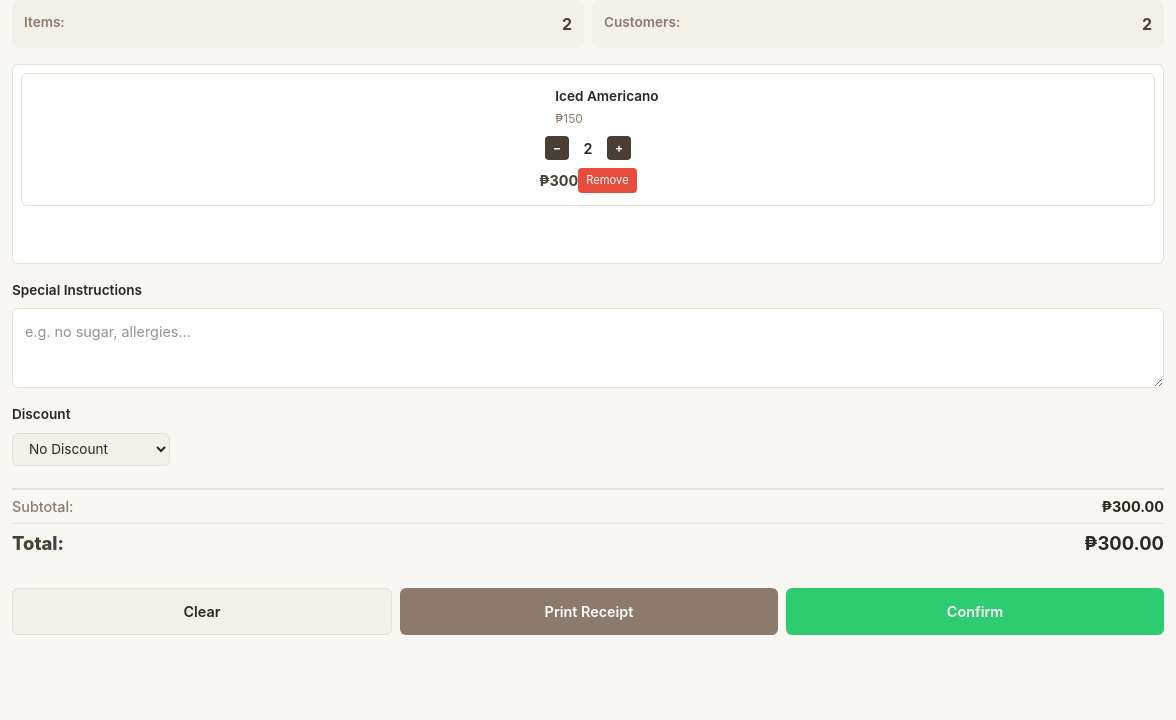
Test: OrderDetails › discount reset when order process ends › should reset discount type and value after Clear is clicked
Select "Fixed Amount (₱)" in the dropdown with test id "discount-type-select" at (91, 449), box [12, 433, 170, 466]
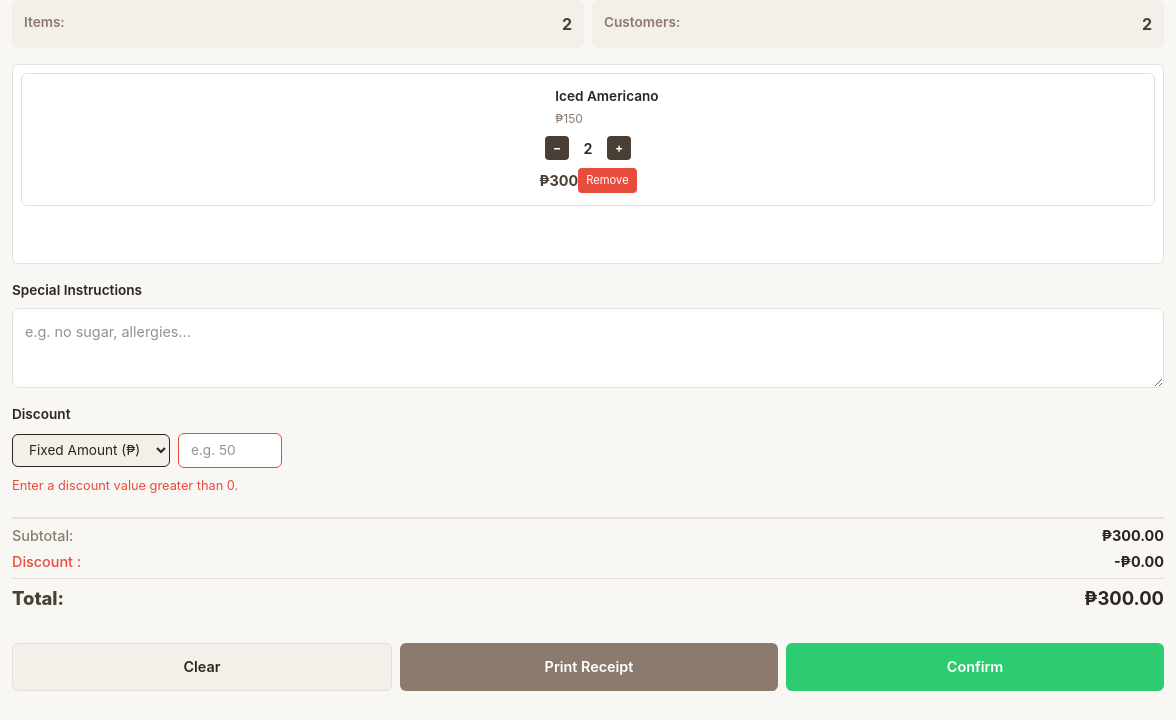
Type "30" into the number field with test id "discount-value-input" at (230, 450), box [178, 433, 282, 468]
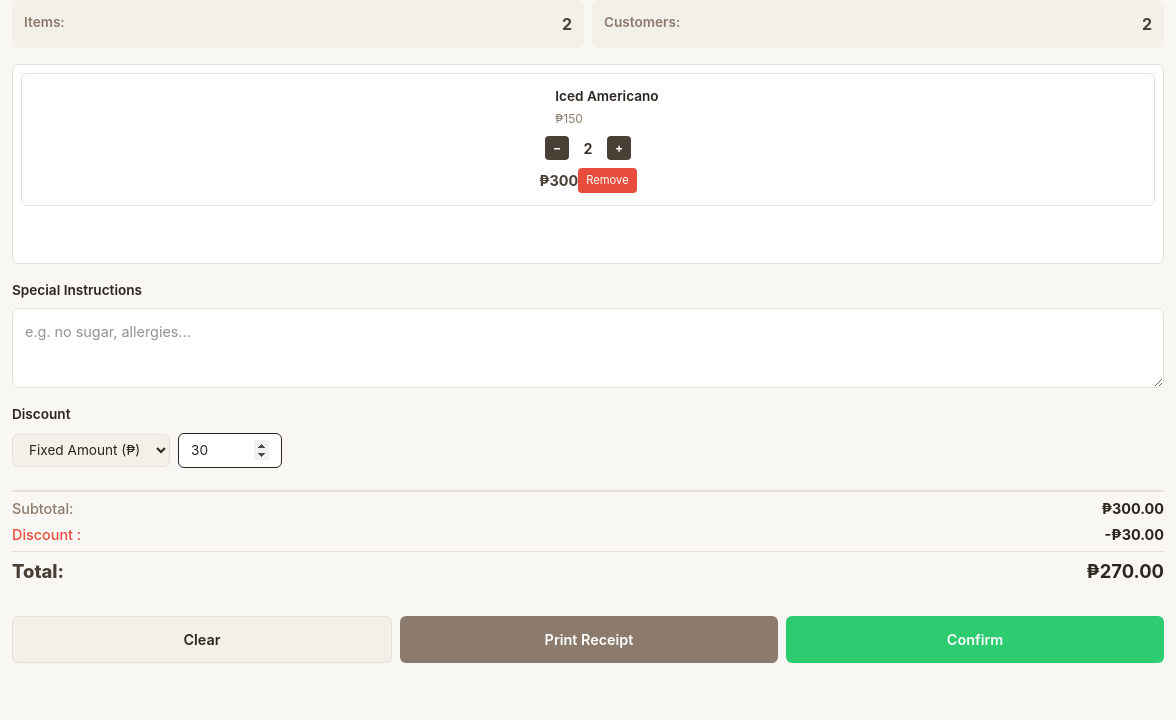
Click the button with test id "clear-cart-btn" at (202, 640), box [12, 616, 392, 663]
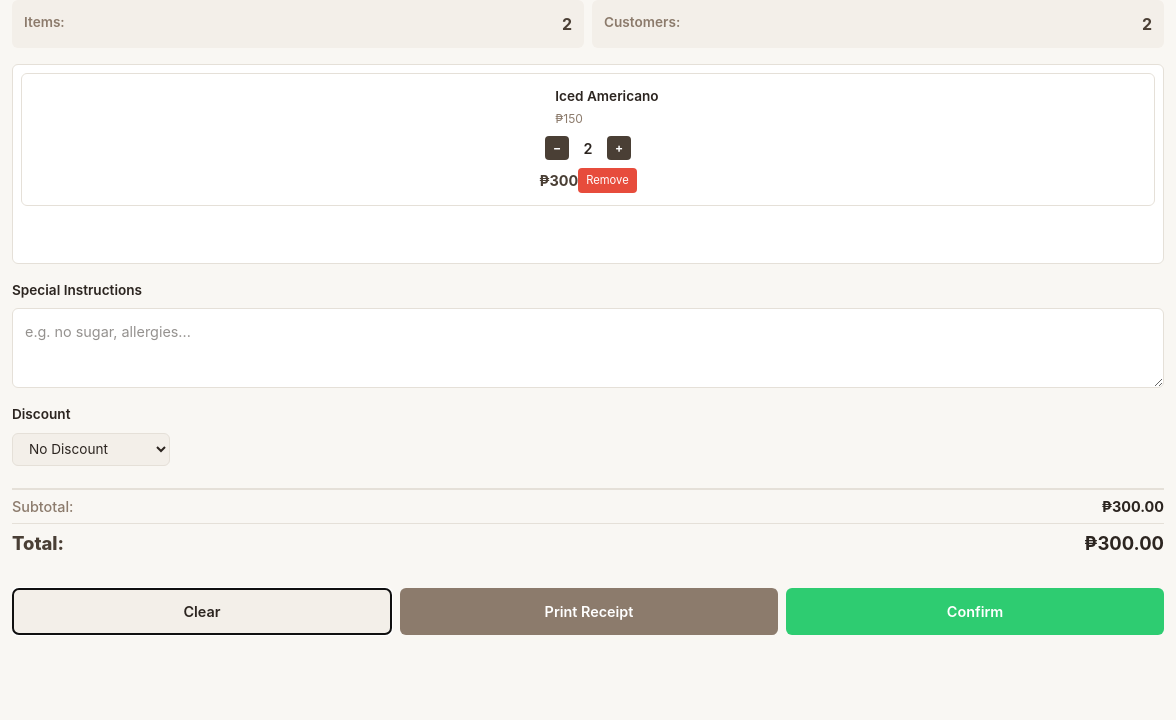
Check: the number field with test id "discount-value-input" is gone
